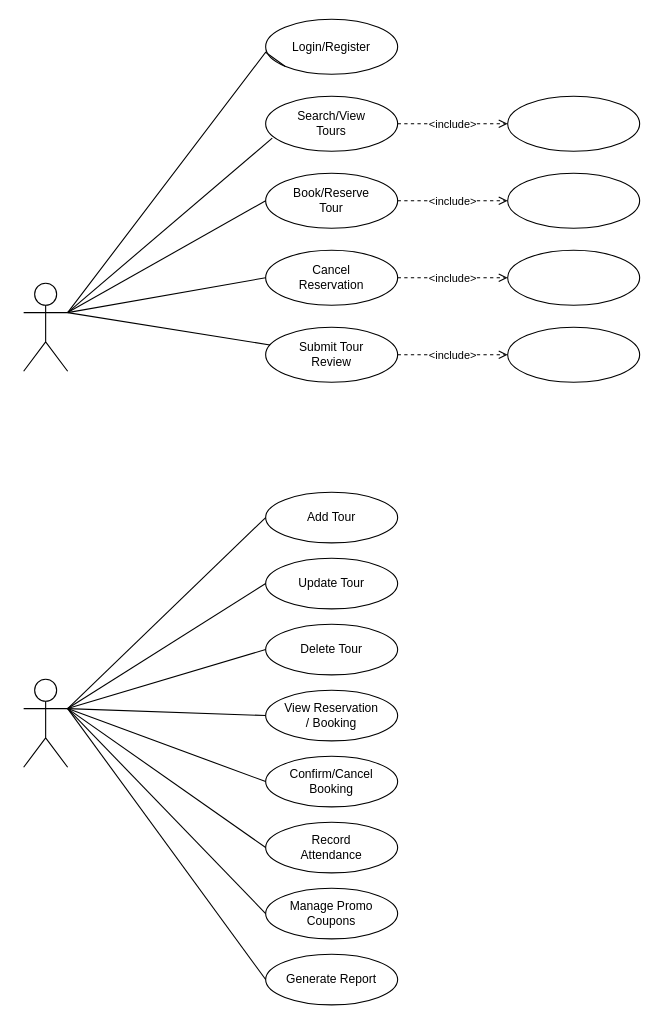
Image size: 659x1024. Some labels were removed from this diagram. The shapes that lost their labels are listed below. From the top down, each one's box as (x1, y1, x2, y2) in pixels, then its label:
(507, 95, 640, 151): View Tour Details
(507, 172, 640, 228): Calculate Tour Fee
(507, 249, 640, 305): Validate Availability
(23, 282, 68, 371): Customer
(507, 326, 640, 382): Verify Completed Booking
(23, 678, 68, 767): Admin
